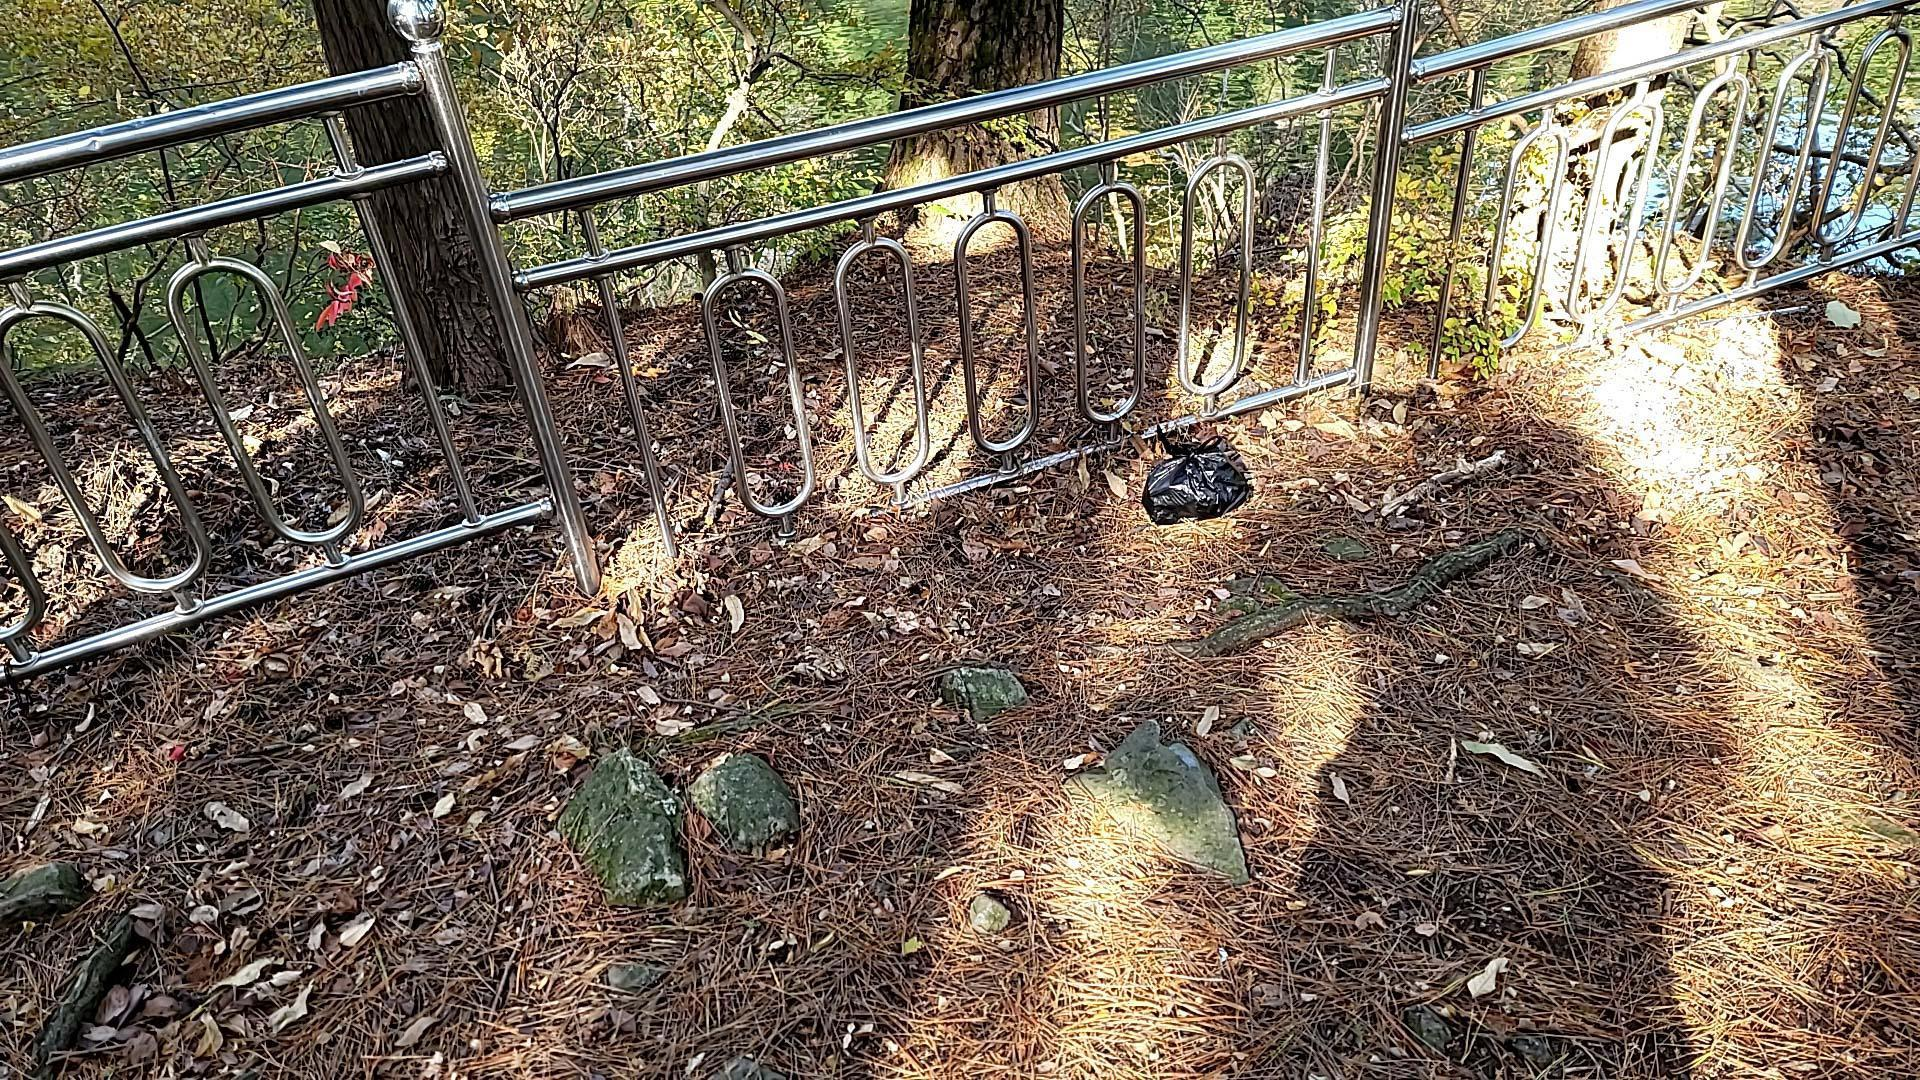white_bag: (1142, 411, 1255, 530)
